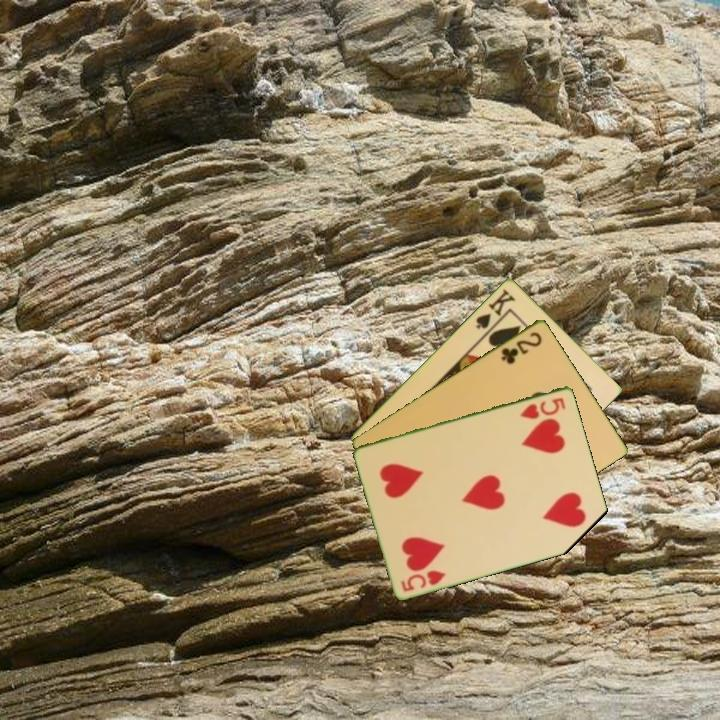2c: (497, 328, 545, 367)
5h: (517, 393, 568, 422), (398, 566, 448, 594)
Ks: (472, 285, 519, 337)
